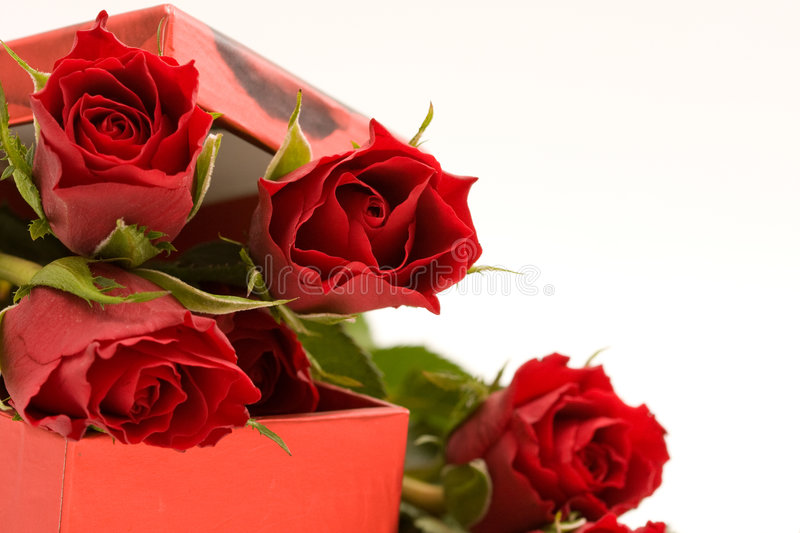RedRose: (24, 272, 285, 435), (457, 354, 670, 520), (251, 162, 465, 316), (39, 49, 214, 229)
